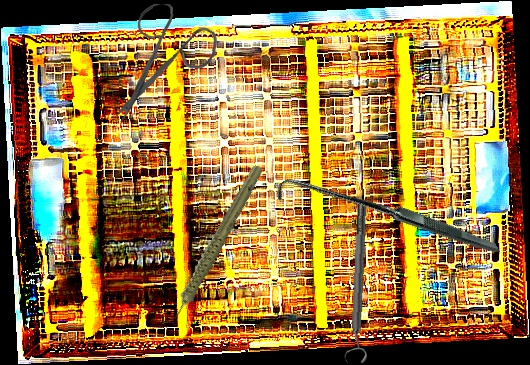Fixation Ring: (341, 202, 377, 364)
Handpiece: (131, 161, 294, 329)
Hook Surgical: (272, 103, 500, 337)
Iris Scissors: (106, 1, 222, 123)
